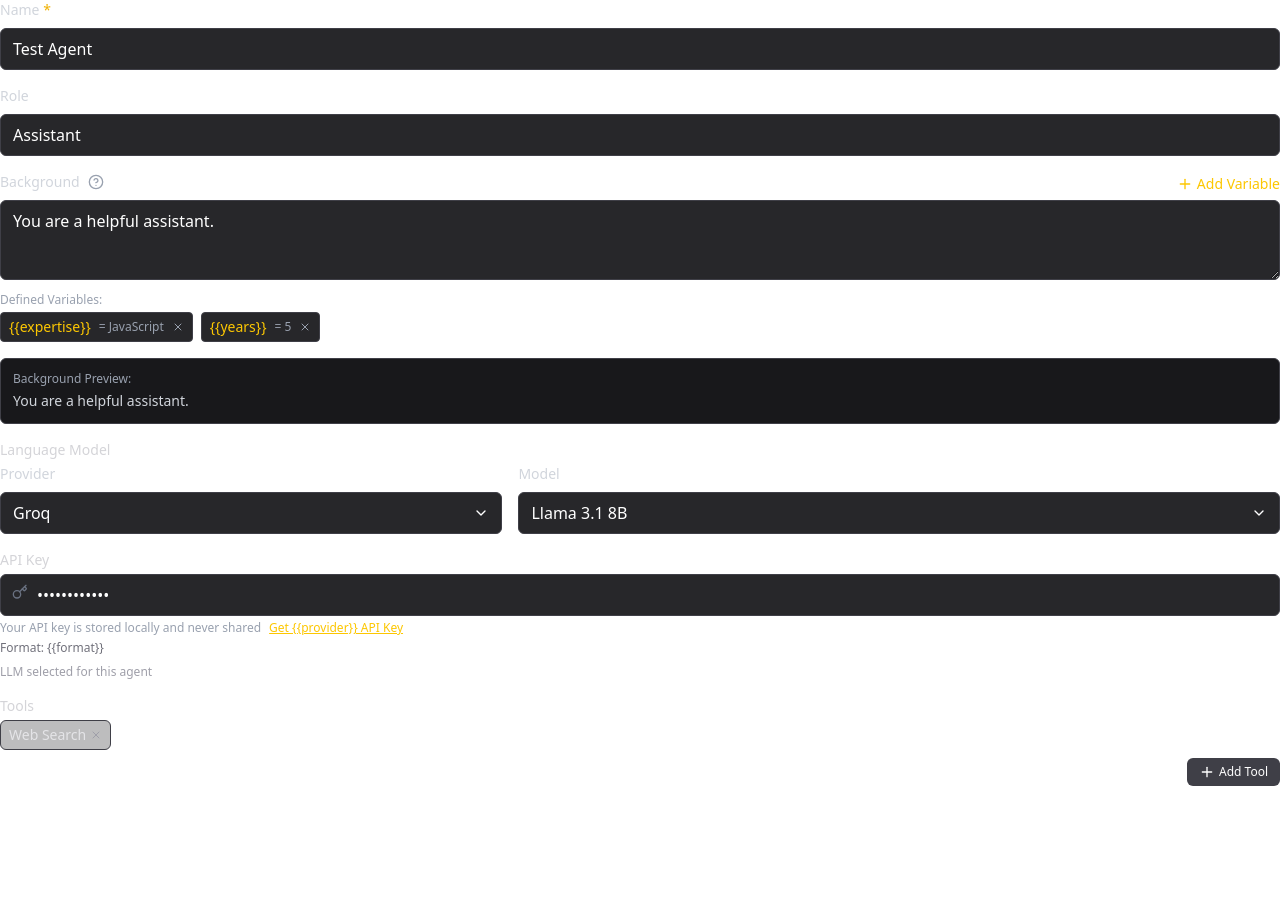
Test: AgentForm Component › Variables Feature (when enabled) › should show error for duplicate variable names
Click the button "Add Variable" at {"x": 1228, "y": 184}, box [1177, 174, 1279, 194]
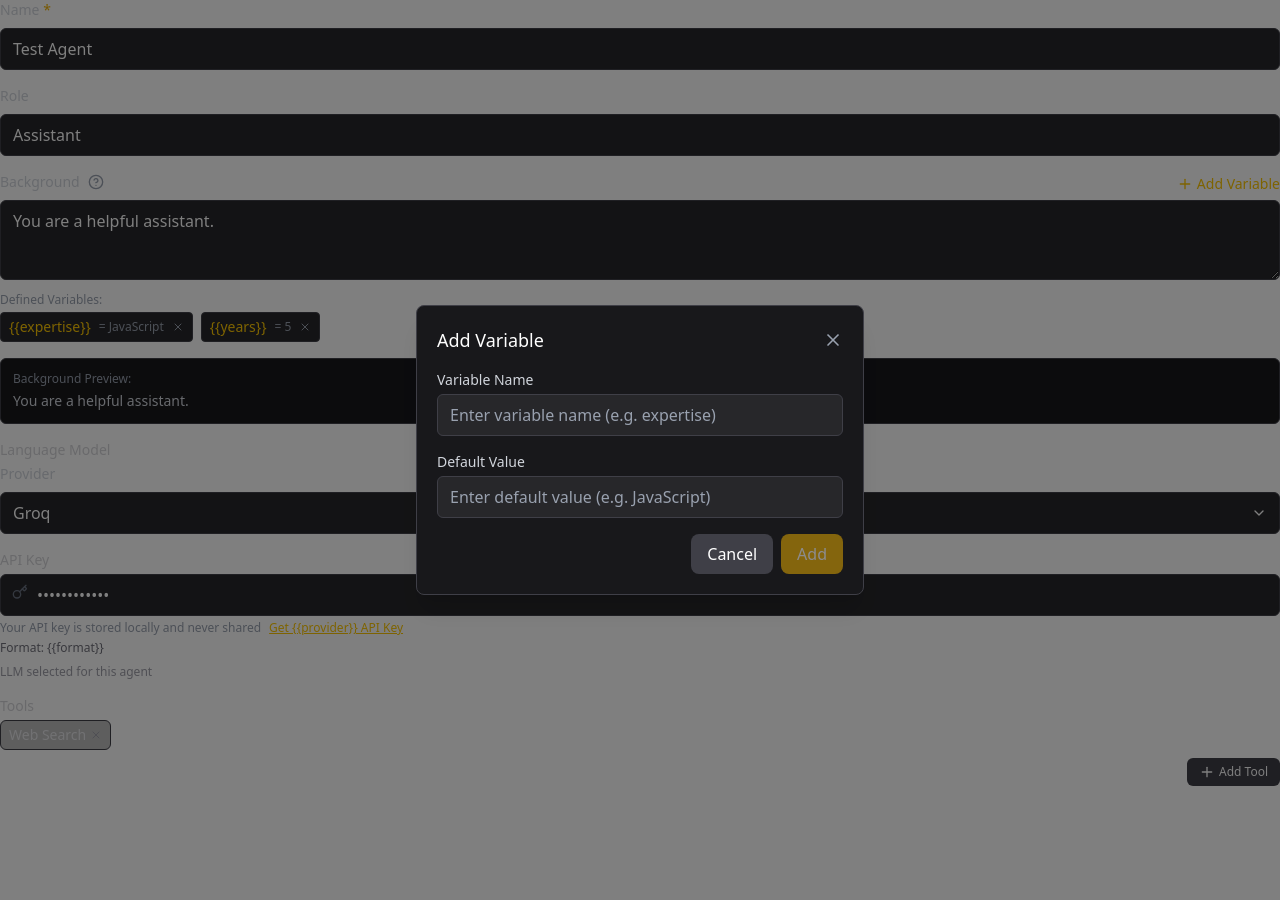
Type "expertise" into the field with placeholder "Enter variable name (e.g. expertise)" at {"x": 640, "y": 415}, box [437, 394, 843, 436]
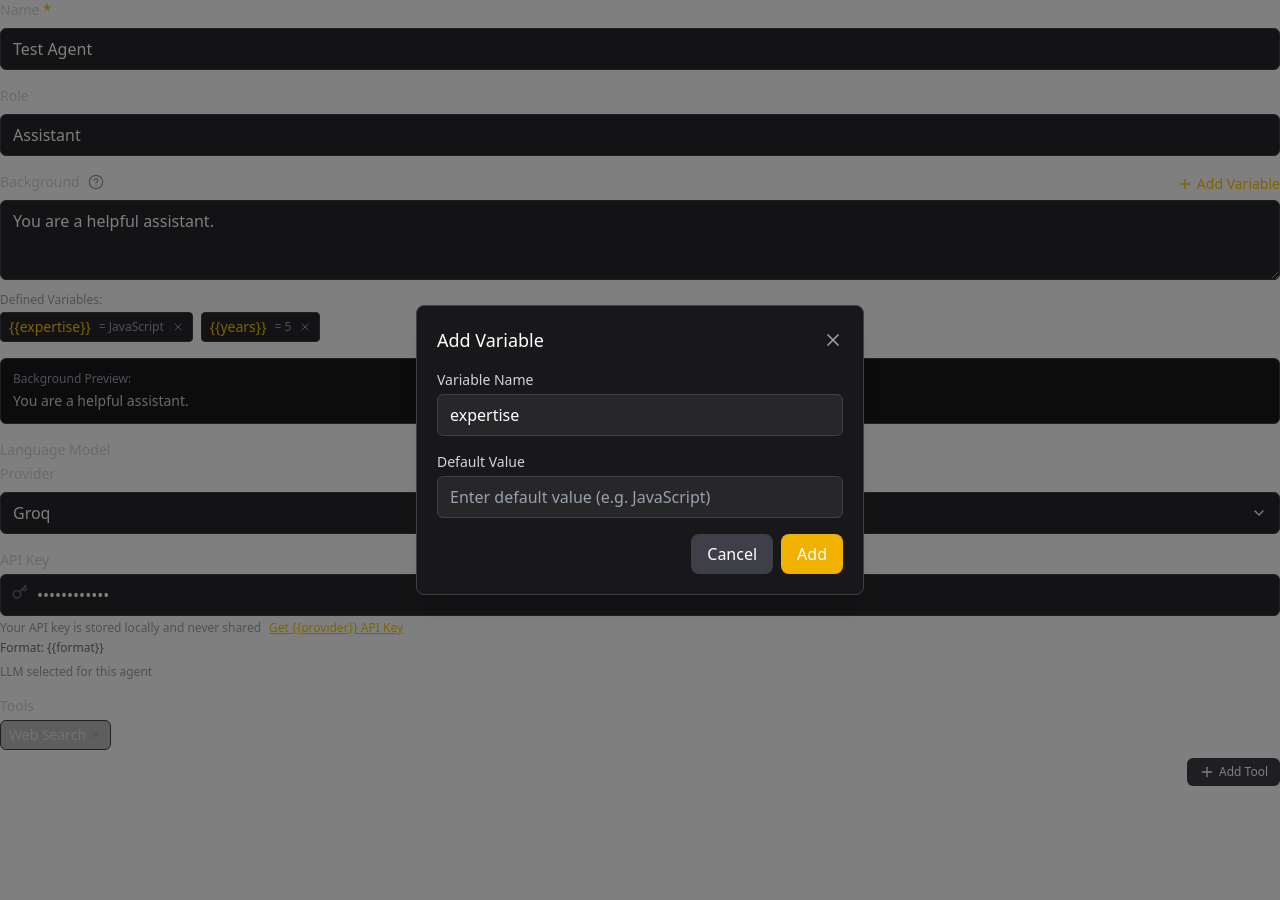
Click the button "Add" at {"x": 812, "y": 554}, box [781, 534, 843, 574]
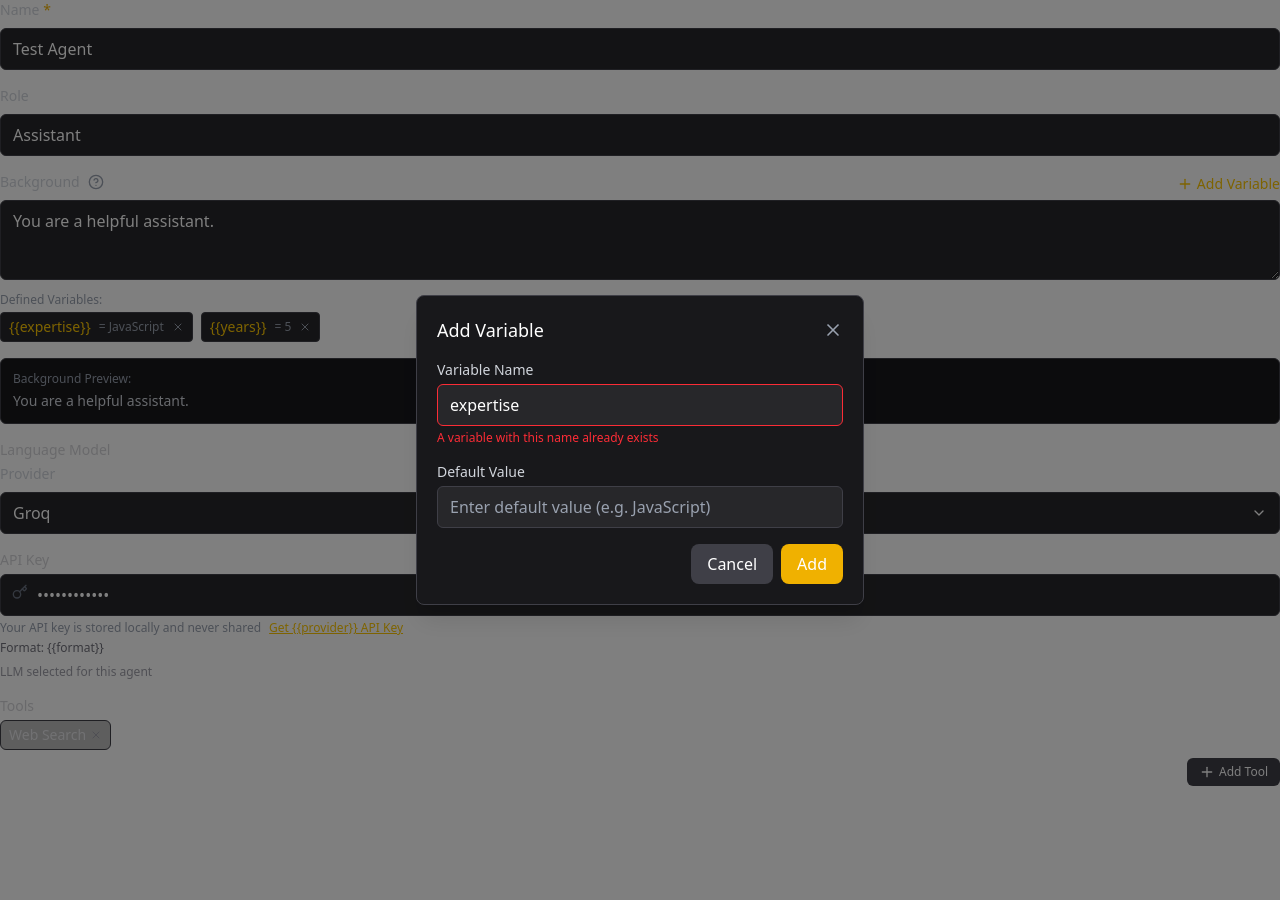
Now the text "A variable with this name already exists" is shown, box [437, 429, 659, 446]
